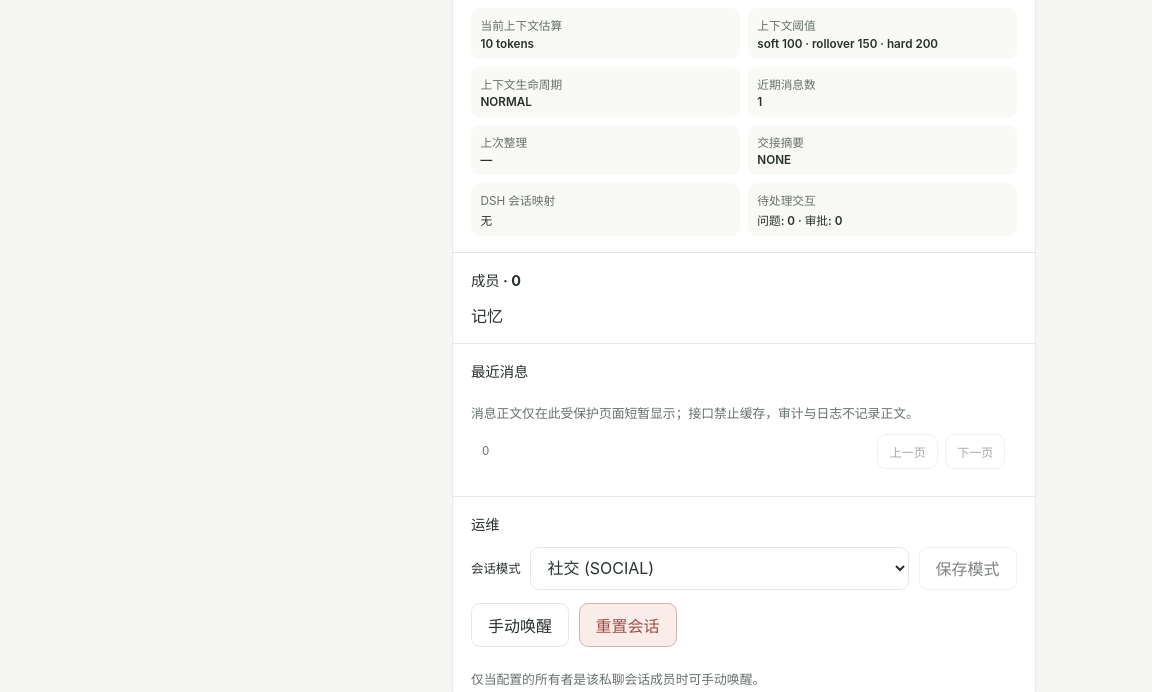
Scenario: conversation operations console › surfaces optimistic mode conflicts and reloads the current detail
(page scrolled)
Select "封闭智能体 (CLOSED_AGENT)" in the dropdown with id "conversation-mode": coordinates (720, 568) [530,547,909,590]
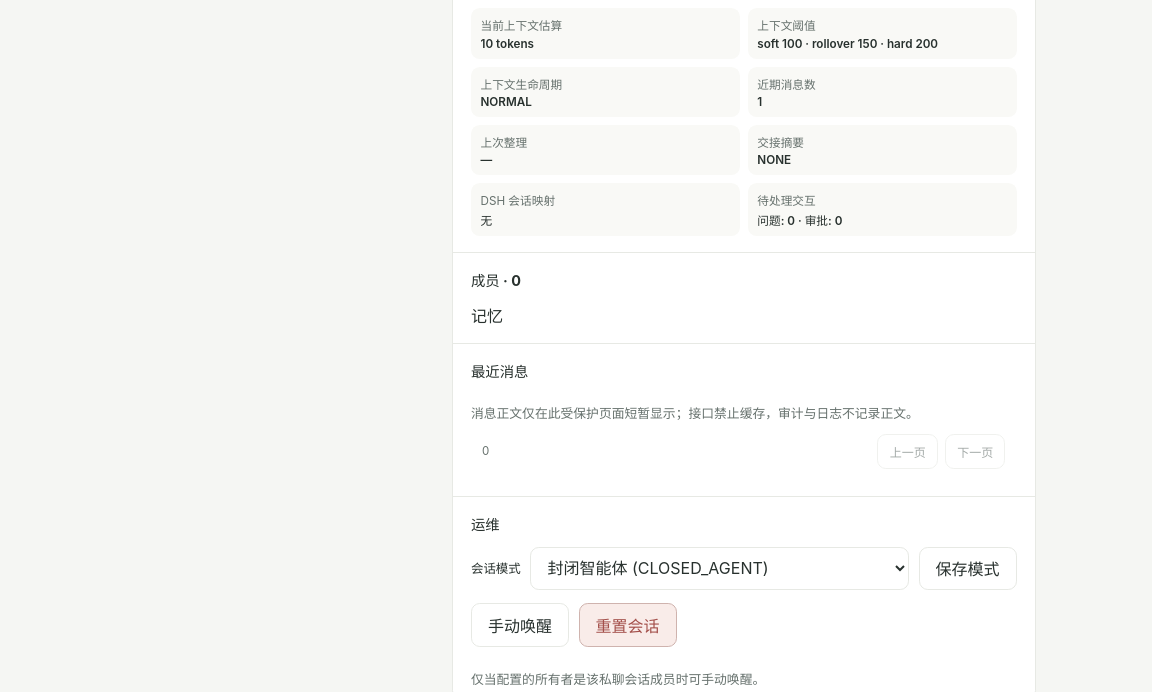
Result: the button "保存模式" is enabled
Click the button "保存模式": coordinates (968, 568) [919,547,1017,590]
(page scrolled)
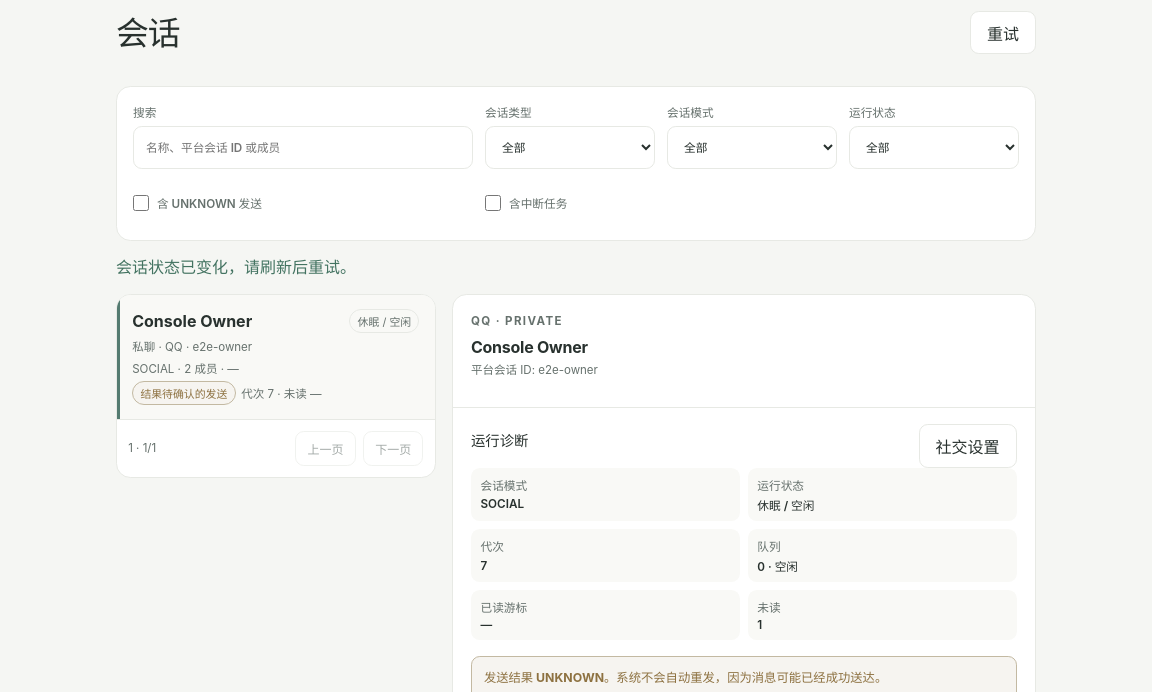
Result: the message reads "会话状态已变化，请刷新后重试。" at [116,257,356,277]
